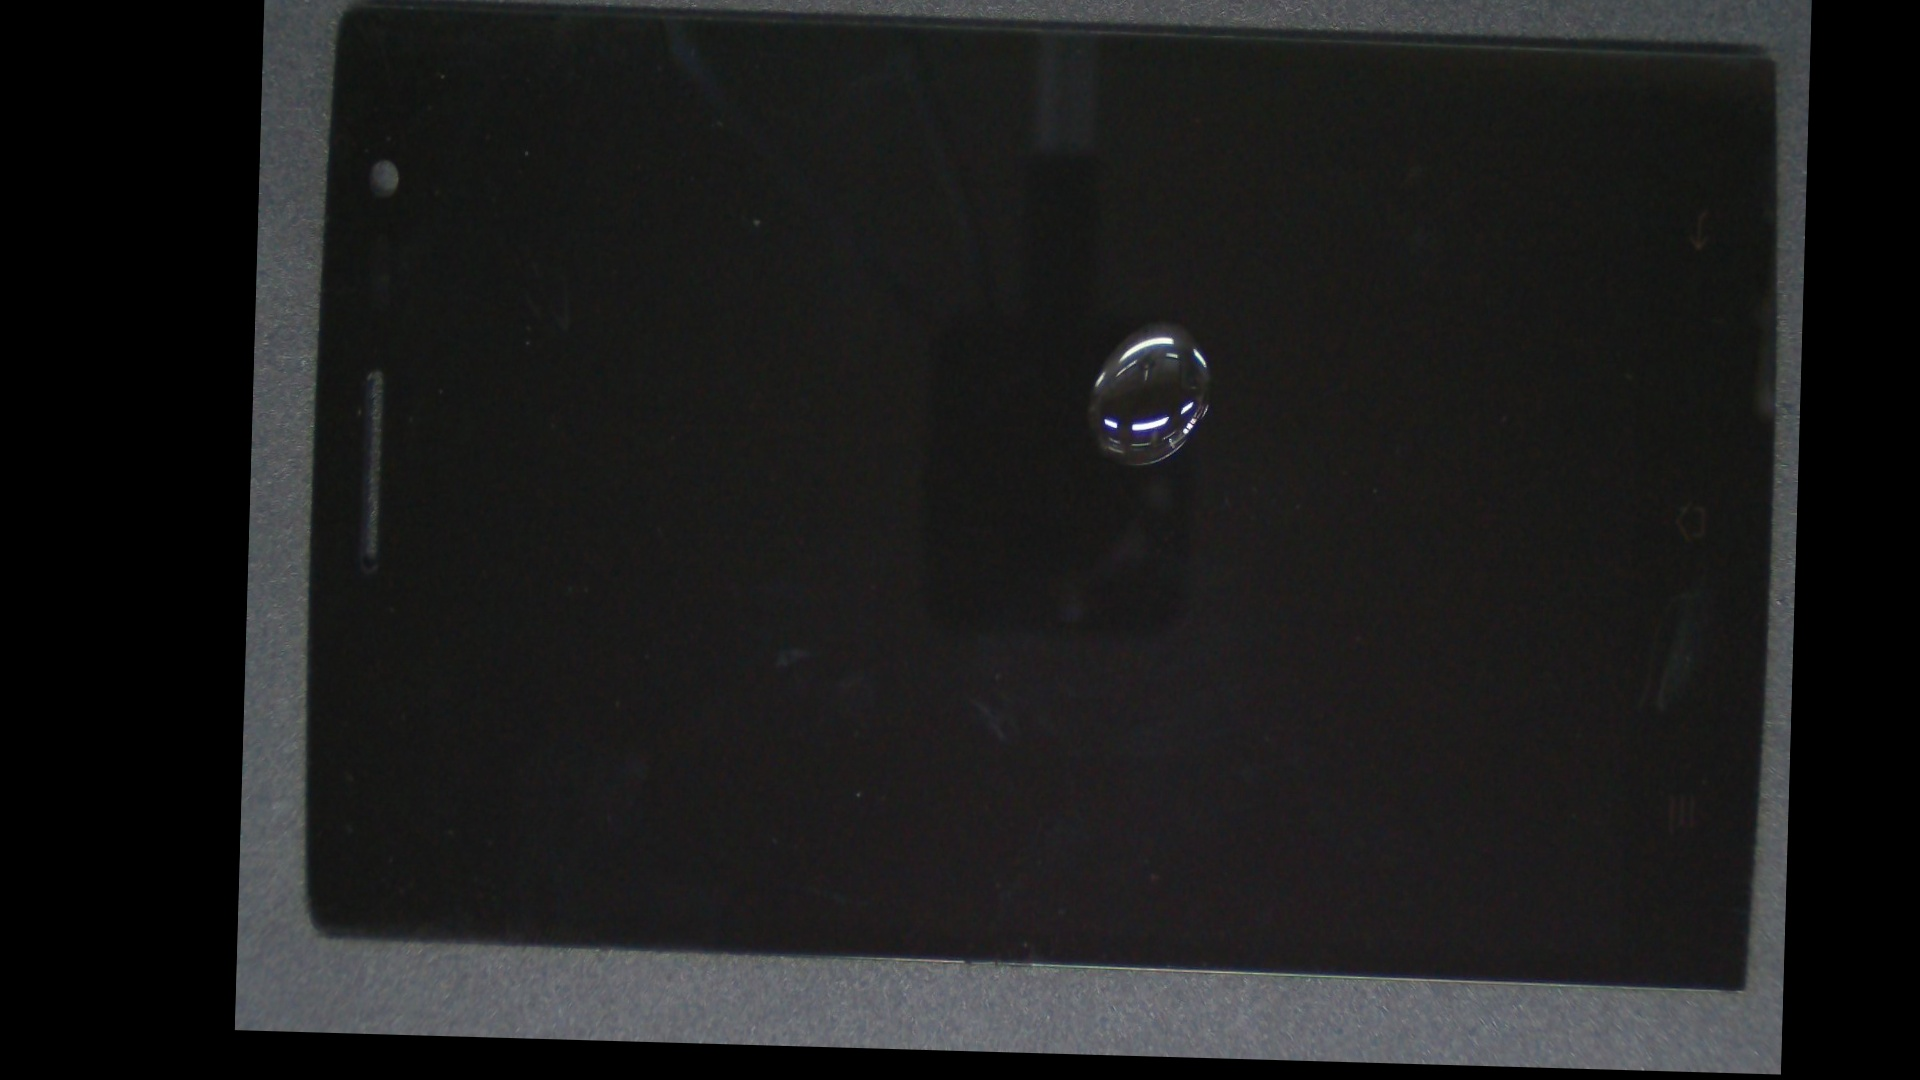oil: (700, 113, 1607, 530)
